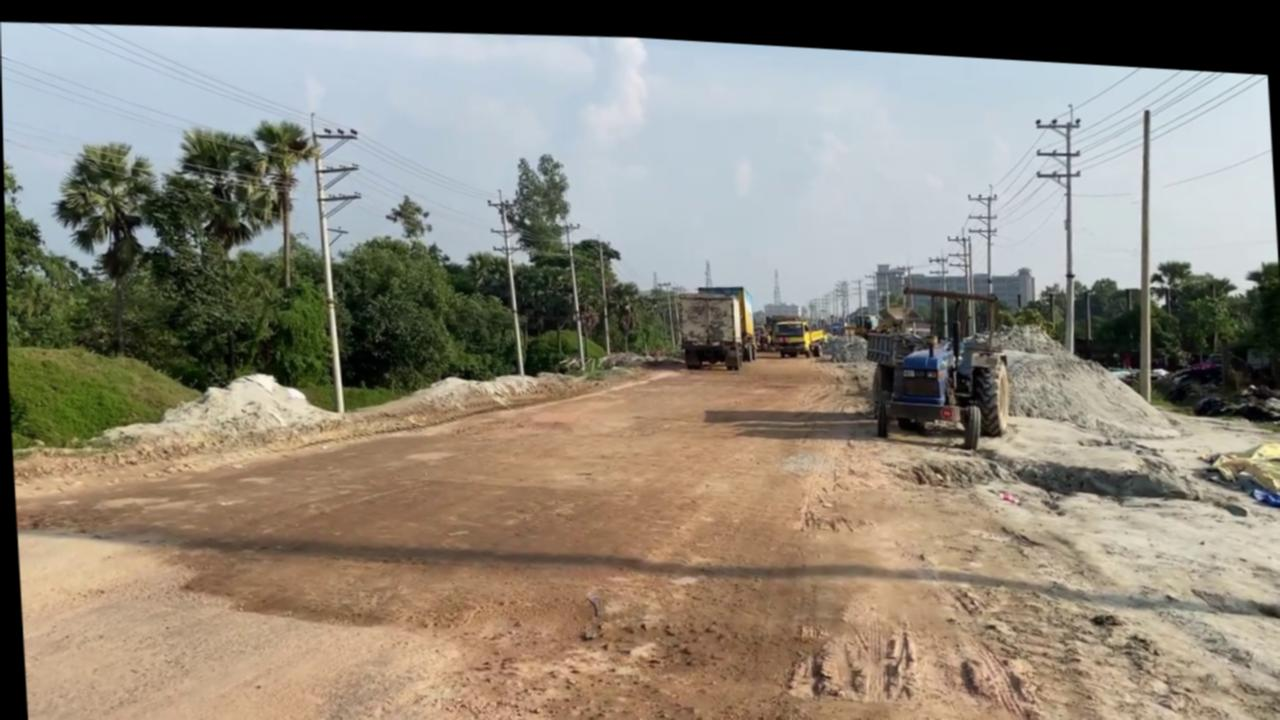Pole: (1123, 92, 1165, 389), (309, 107, 343, 409)
Traffic-sign: (154, 118, 282, 386), (46, 134, 167, 360), (245, 112, 327, 288)
Tree: (859, 267, 1011, 443), (673, 273, 757, 365), (761, 302, 825, 350), (844, 295, 873, 329)
